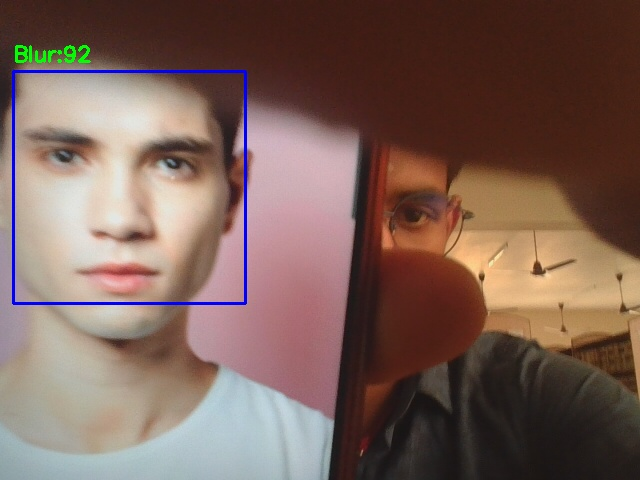fake: (13, 71, 245, 303)
